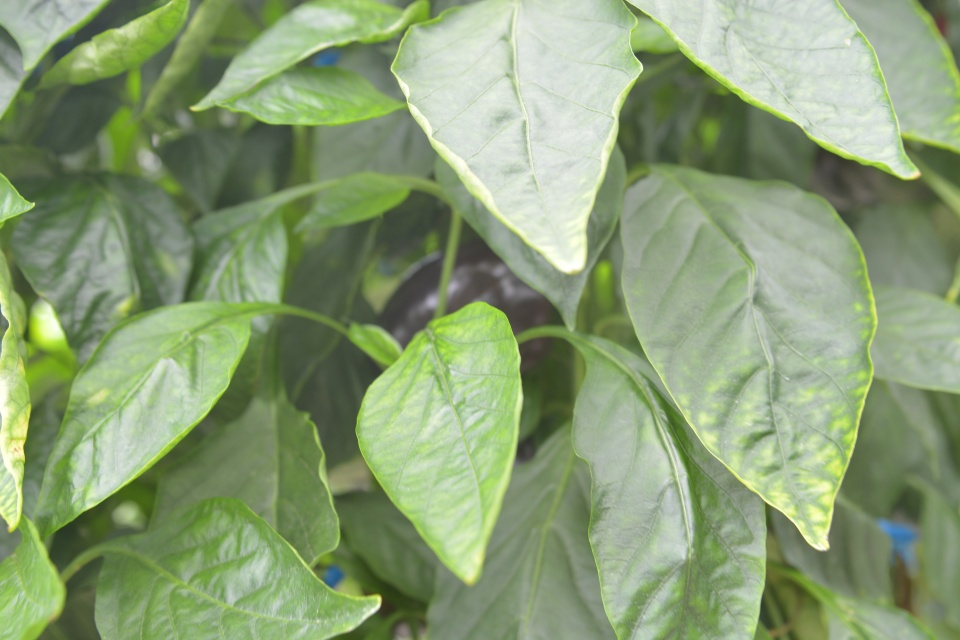fruit: (374, 237, 554, 376)
